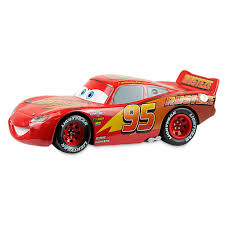mcqueen: (7, 69, 220, 154)
